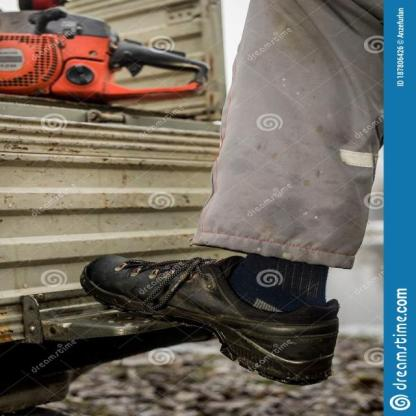bota: (76, 250, 344, 388)
